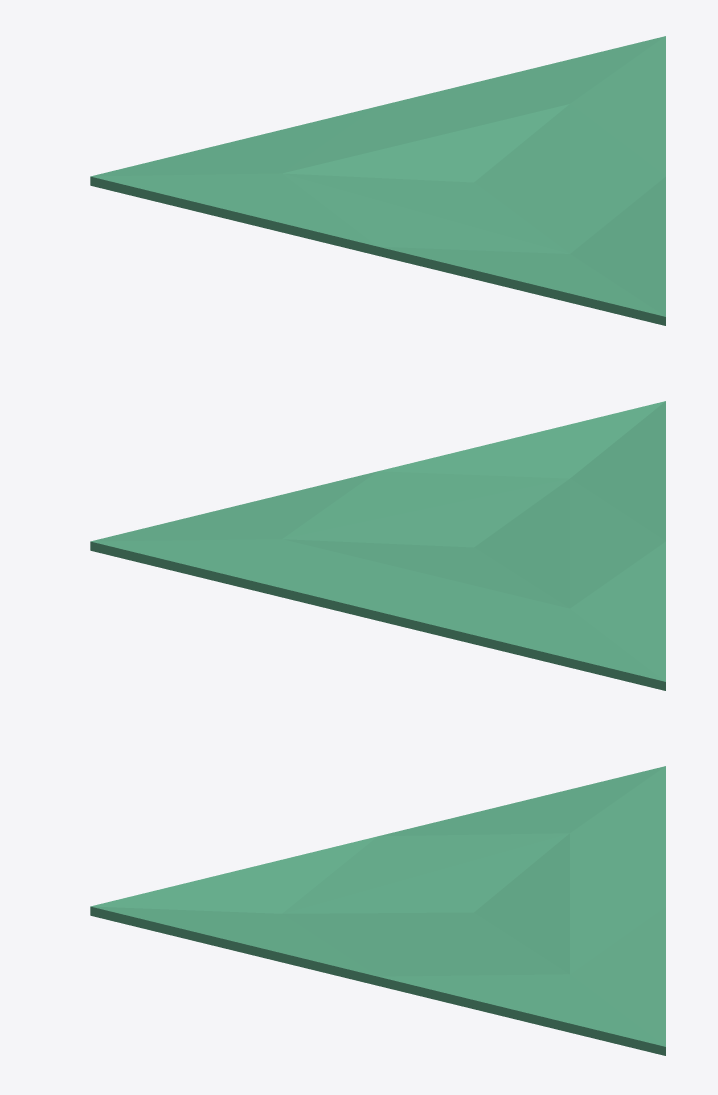
The model's file is tile0.glb.
The picture shows the model from 3 angles, top to bottom: view 1: azimuth 30°, elevation 25°; view 2: azimuth 150°, elevation 25°; view 3: azimuth 270°, elevation 25°; orthographic projection.
Parts seen in each view (by area): view 1: ground.006; view 2: ground.006; view 3: ground.006.
Part boxes in pixels (bbox=[...]): ground.006: bbox=[90, 36, 665, 325]; ground.006: bbox=[90, 401, 665, 690]; ground.006: bbox=[90, 766, 665, 1055].
Bounding box in the file's own units: 1.2 × 0.0203 × 1.04.
